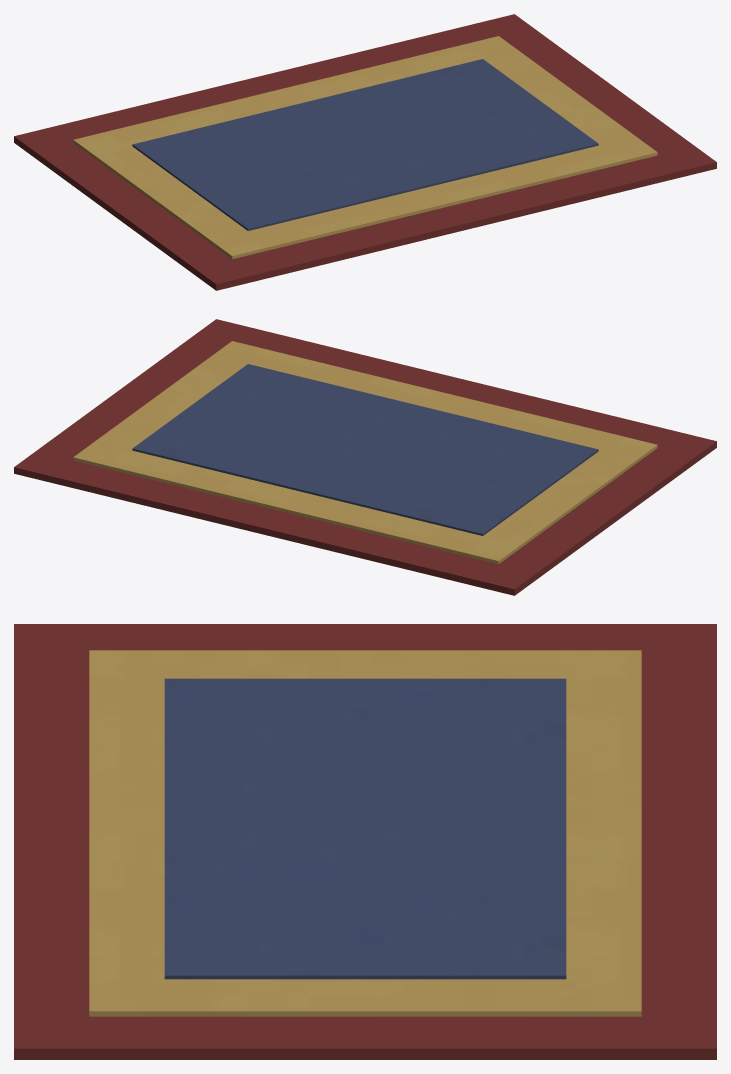
The model's file is rug_rect_01.glb.
3 renders of one model, top to bottom at view 1: azimuth 30°, elevation 25°; view 2: azimuth 150°, elevation 25°; view 3: azimuth 270°, elevation 25°, orthographic. The views are drawn at different scales.
Parts seen in each view (by area): view 1: rug_rect_01; view 2: rug_rect_01; view 3: rug_rect_01.
Boxes of the visible parts, bbox=[...] form: rug_rect_01: bbox=[14, 14, 716, 290]; rug_rect_01: bbox=[14, 319, 716, 595]; rug_rect_01: bbox=[14, 624, 716, 1059].
Size of the model in its own units: 2 by 0.0449 by 1.4.
3 materials, 3 textured.
